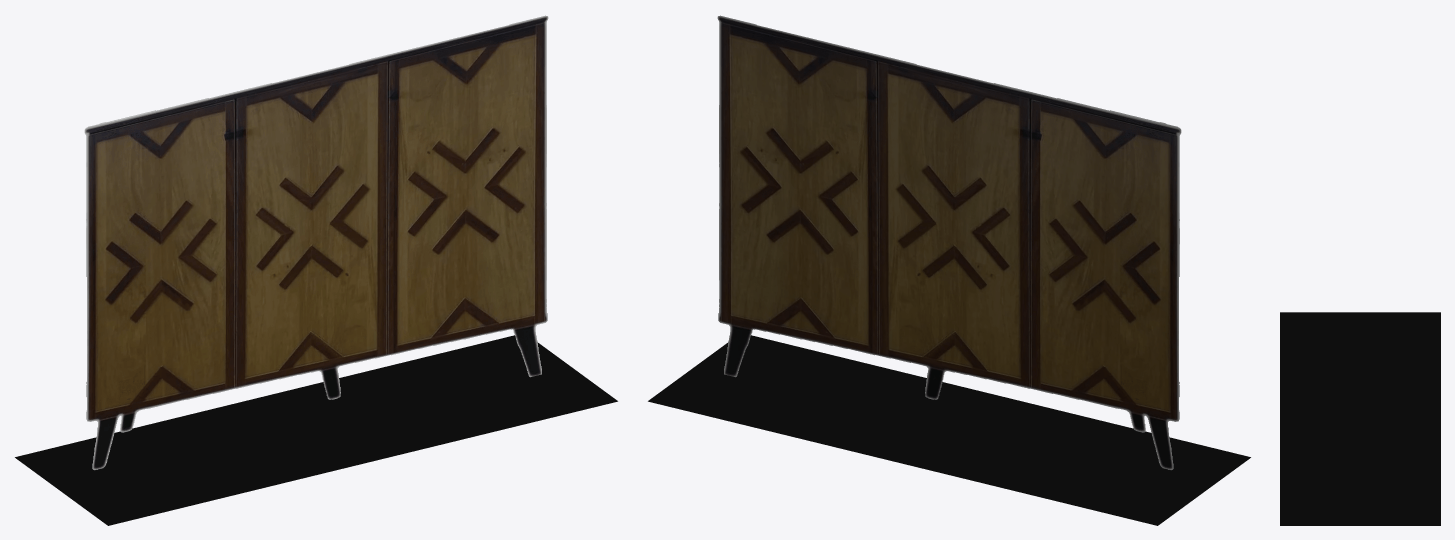
The model's file is arm-cf52868231.glb.
The picture shows the model from 3 angles, left to right: view 1: azimuth 30°, elevation 25°; view 2: azimuth 150°, elevation 25°; view 3: azimuth 270°, elevation 25°; orthographic projection. The views are drawn at different scales.
Size of the model in its own units: 1.32 by 0.8887 by 0.42.
2 materials, 2 textured.
